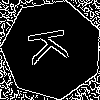K: (27, 24, 79, 66)
